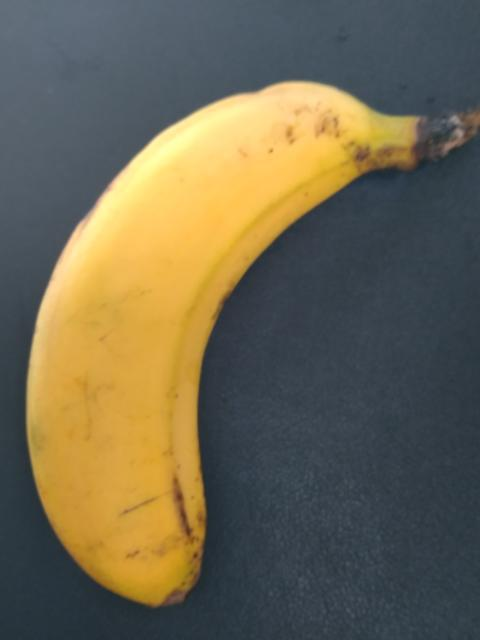freshripe: (0, 69, 403, 636)
